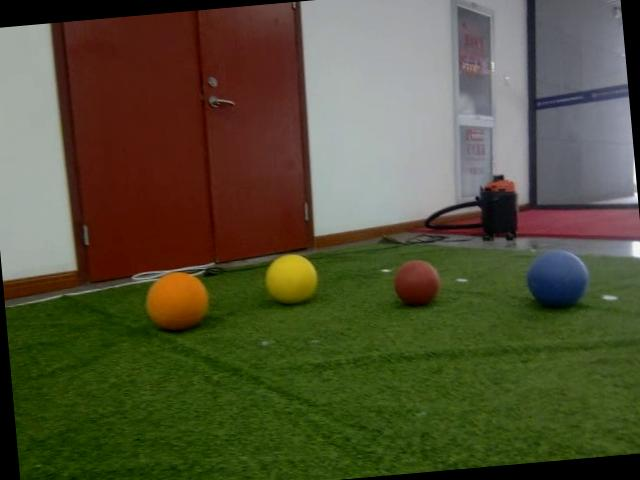blue_ball: (522, 246, 592, 310)
orange_ball: (140, 270, 213, 334)
red_ball: (390, 256, 442, 308)
yellow_ball: (260, 250, 320, 306)
